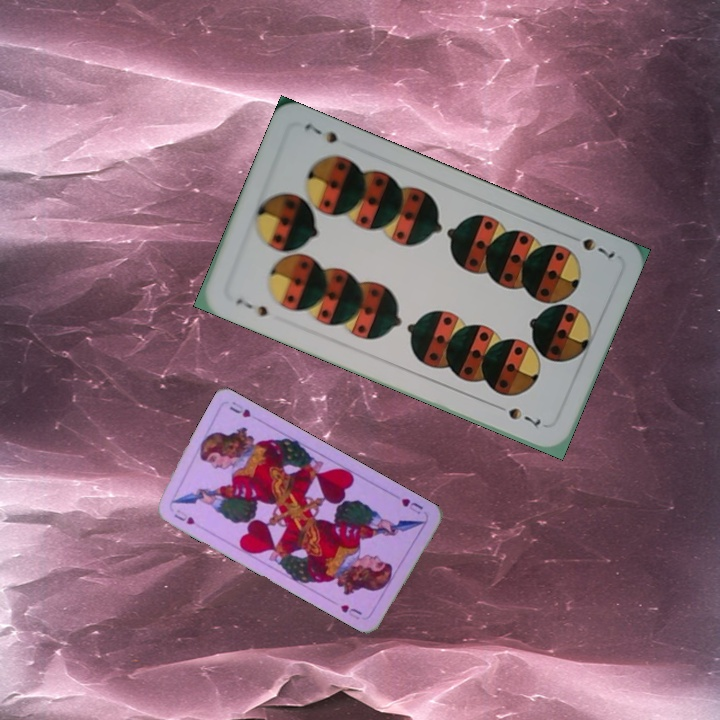HU: (397, 494, 426, 517), (170, 509, 197, 527)
S7: (563, 230, 618, 261), (231, 294, 271, 320)
